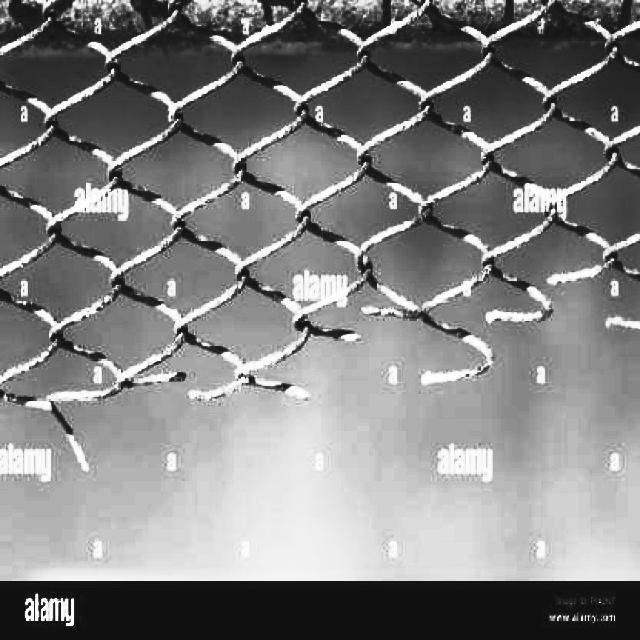anomaly-fence: (0, 232, 637, 580)
